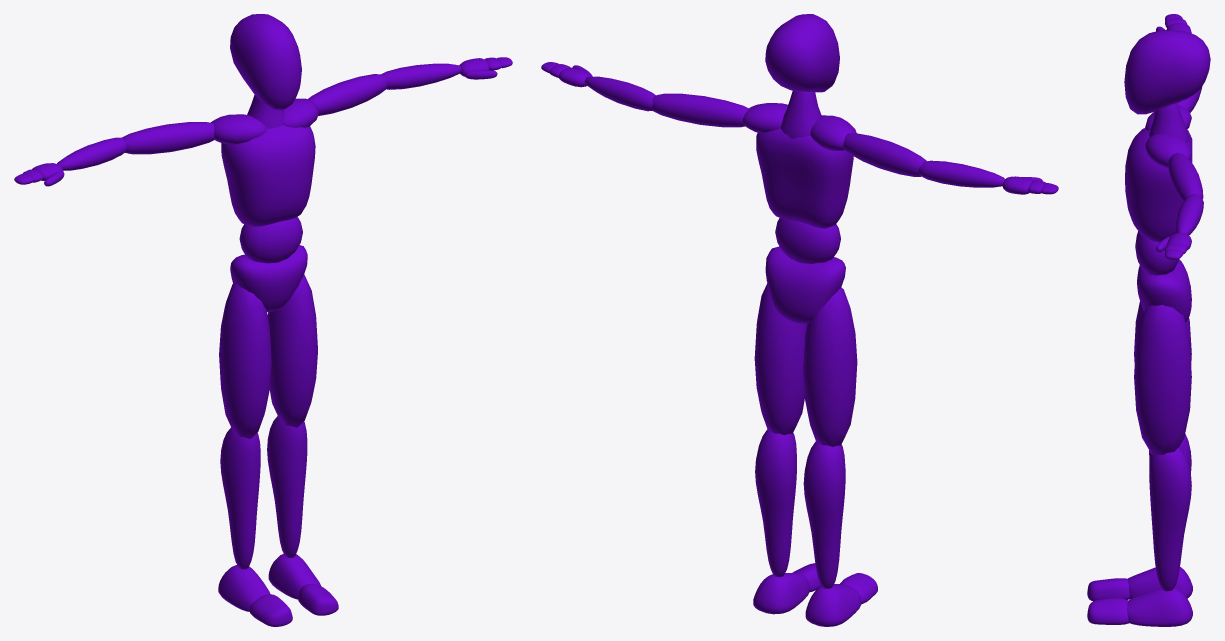
File: purple_hoser.obj
3 views of the same model, side by side, from view 1: azimuth 30°, elevation 25°; view 2: azimuth 150°, elevation 25°; view 3: azimuth 270°, elevation 25° (orthographic). The views are drawn at different scales.
Visible parts, largest first — view 1: Chest, Thigh.R_Thigh, Thigh.L_Thigh, Head, Shin.R_Shin, Shin.L_Shin, Pelvis, UpperArm.R, Mid, UpperArm.L, Foot.R, Forearm.L (+7 smaller); view 2: Chest, Thigh.R_Thigh, Thigh.L_Thigh, Head, Shin.L_Shin, Shin.R_Shin, Pelvis, UpperArm.L, Mid, UpperArm.R, Foot.R, Foot.L (+5 smaller); view 3: Thigh.L_Thigh, Head, Shin.L_Shin, Chest, Foot.L, Pelvis, UpperArm.L, Mid, Shoulder.L, Toe.L, Foot.R, Neck (+7 smaller).
Boxes of the visible parts, x1,y1,x2,y2 form: Chest: (221, 125, 315, 226); Thigh.R_Thigh: (219, 283, 271, 438); Thigh.L_Thigh: (267, 274, 317, 427); Head: (230, 14, 301, 110); Shin.R_Shin: (220, 427, 260, 569); Shin.L_Shin: (267, 416, 307, 557); Pelvis: (230, 245, 307, 312); UpperArm.R: (122, 122, 214, 154); Mid: (239, 217, 302, 263); UpperArm.L: (308, 74, 387, 115); Foot.R: (218, 565, 270, 611); Forearm.L: (381, 63, 461, 89); Chest: (756, 128, 853, 228); Thigh.R_Thigh: (803, 287, 857, 446); Thigh.L_Thigh: (754, 283, 806, 435); Head: (765, 14, 839, 92); Shin.L_Shin: (755, 429, 796, 577); Shin.R_Shin: (803, 441, 845, 588); Pelvis: (765, 246, 845, 323); UpperArm.L: (652, 93, 748, 127); Mid: (775, 218, 840, 263); UpperArm.R: (843, 133, 926, 176); Foot.R: (805, 584, 861, 626); Foot.L: (753, 573, 809, 614); Thigh.L_Thigh: (1134, 304, 1191, 455); Head: (1124, 30, 1210, 114); Shin.L_Shin: (1149, 447, 1191, 591); Chest: (1125, 128, 1192, 242); Foot.L: (1127, 588, 1192, 626); Pelvis: (1137, 259, 1191, 322); UpperArm.L: (1168, 152, 1203, 201); Mid: (1135, 231, 1178, 275); Shoulder.L: (1145, 133, 1191, 167); Toe.L: (1087, 598, 1128, 624); Foot.R: (1127, 567, 1192, 598); Neck: (1149, 103, 1189, 142).
Size of the model in its own units: 1.81 by 2.01 by 0.3883.
